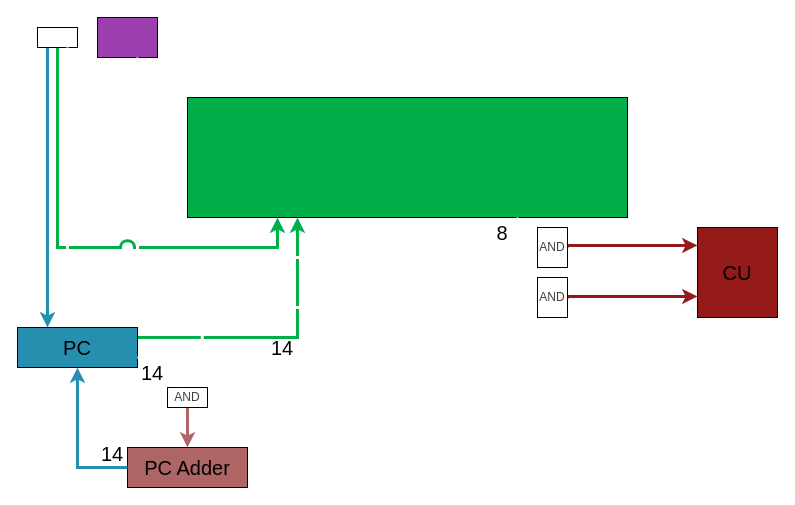
The diagram is 795 pixels wide and 505 high, and some of its shapes have lost their labels. Each missing label, with the centre of its shape:
CLK: the point at 127,37
EEPROM: the point at 407,157
NOT: the point at 57,37
